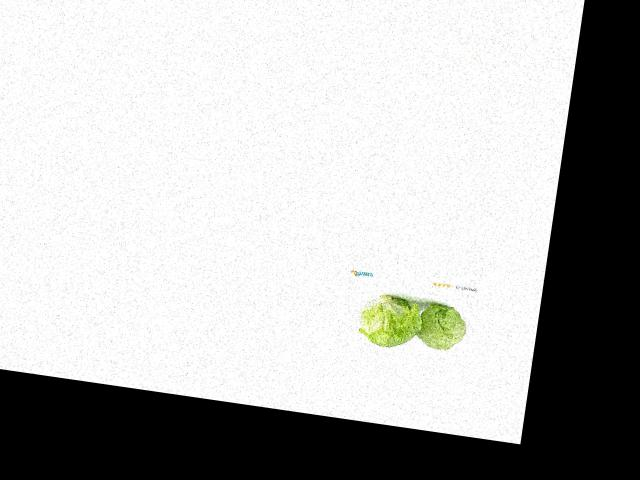lettuce: (401, 289, 472, 353)
